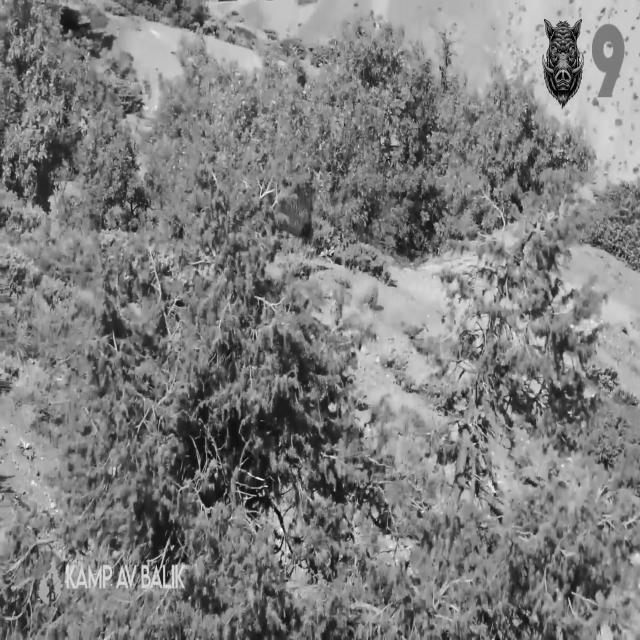boar: (285, 187, 312, 238)
